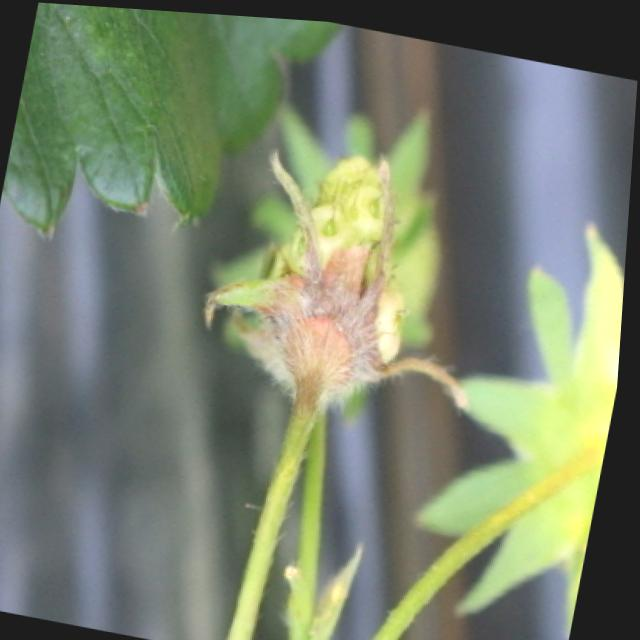Gray Mold: (233, 145, 468, 407)
